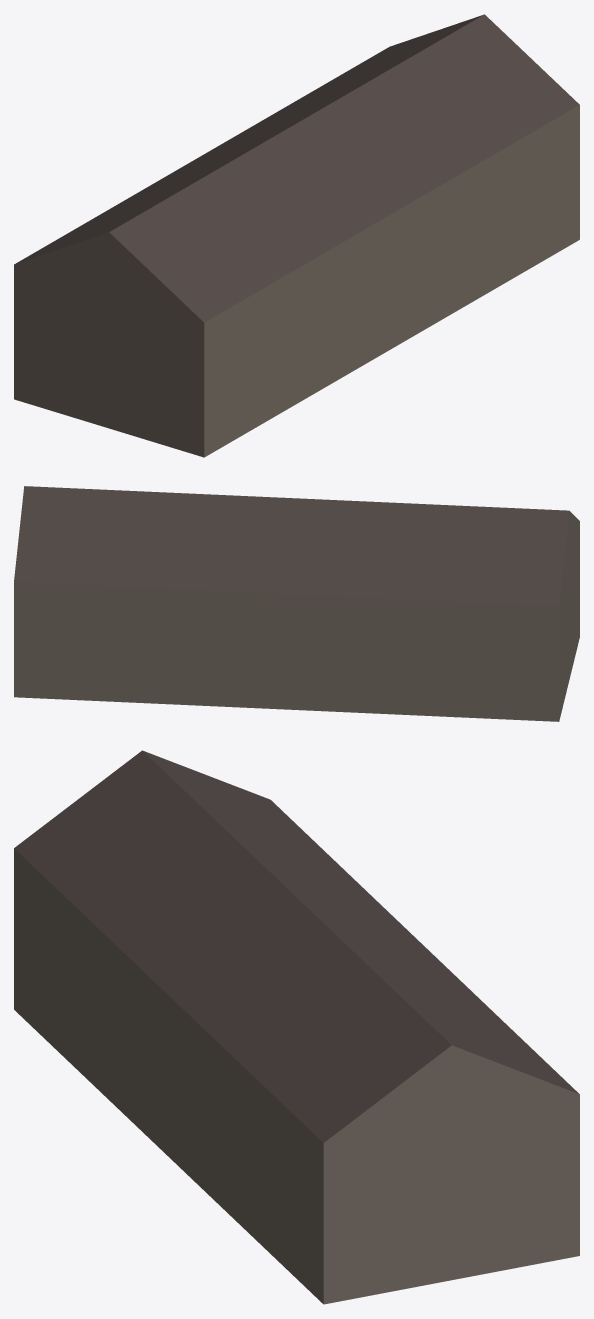
The picture shows the model from 3 angles, top to bottom: view 1: azimuth 30°, elevation 25°; view 2: azimuth 150°, elevation 25°; view 3: azimuth 270°, elevation 25°; orthographic projection. The views are drawn at different scales.
Parts seen in each view (by area): view 1: HP-w859082471; view 2: HP-w859082471; view 3: HP-w859082471.
Part boxes in pixels (box(x1,y1,x2,y2)): HP-w859082471: box(14, 14, 579, 457); HP-w859082471: box(14, 486, 579, 721); HP-w859082471: box(14, 750, 579, 1304).
Size of the model in its own units: 27.38 by 8.73 by 19.07.
